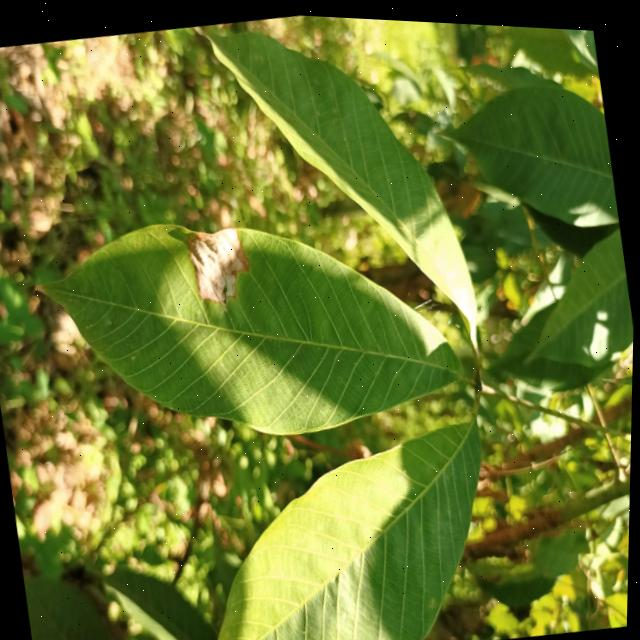Leaf-Blight: (186, 220, 257, 305)
